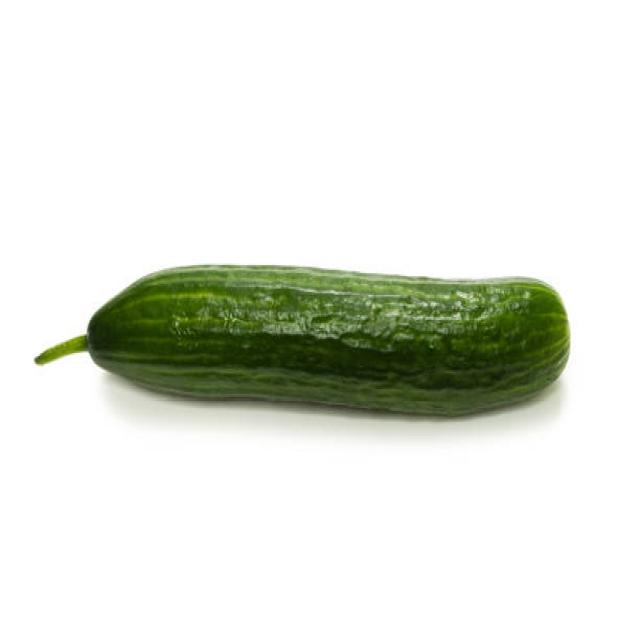cucumber: (88, 262, 572, 421)
